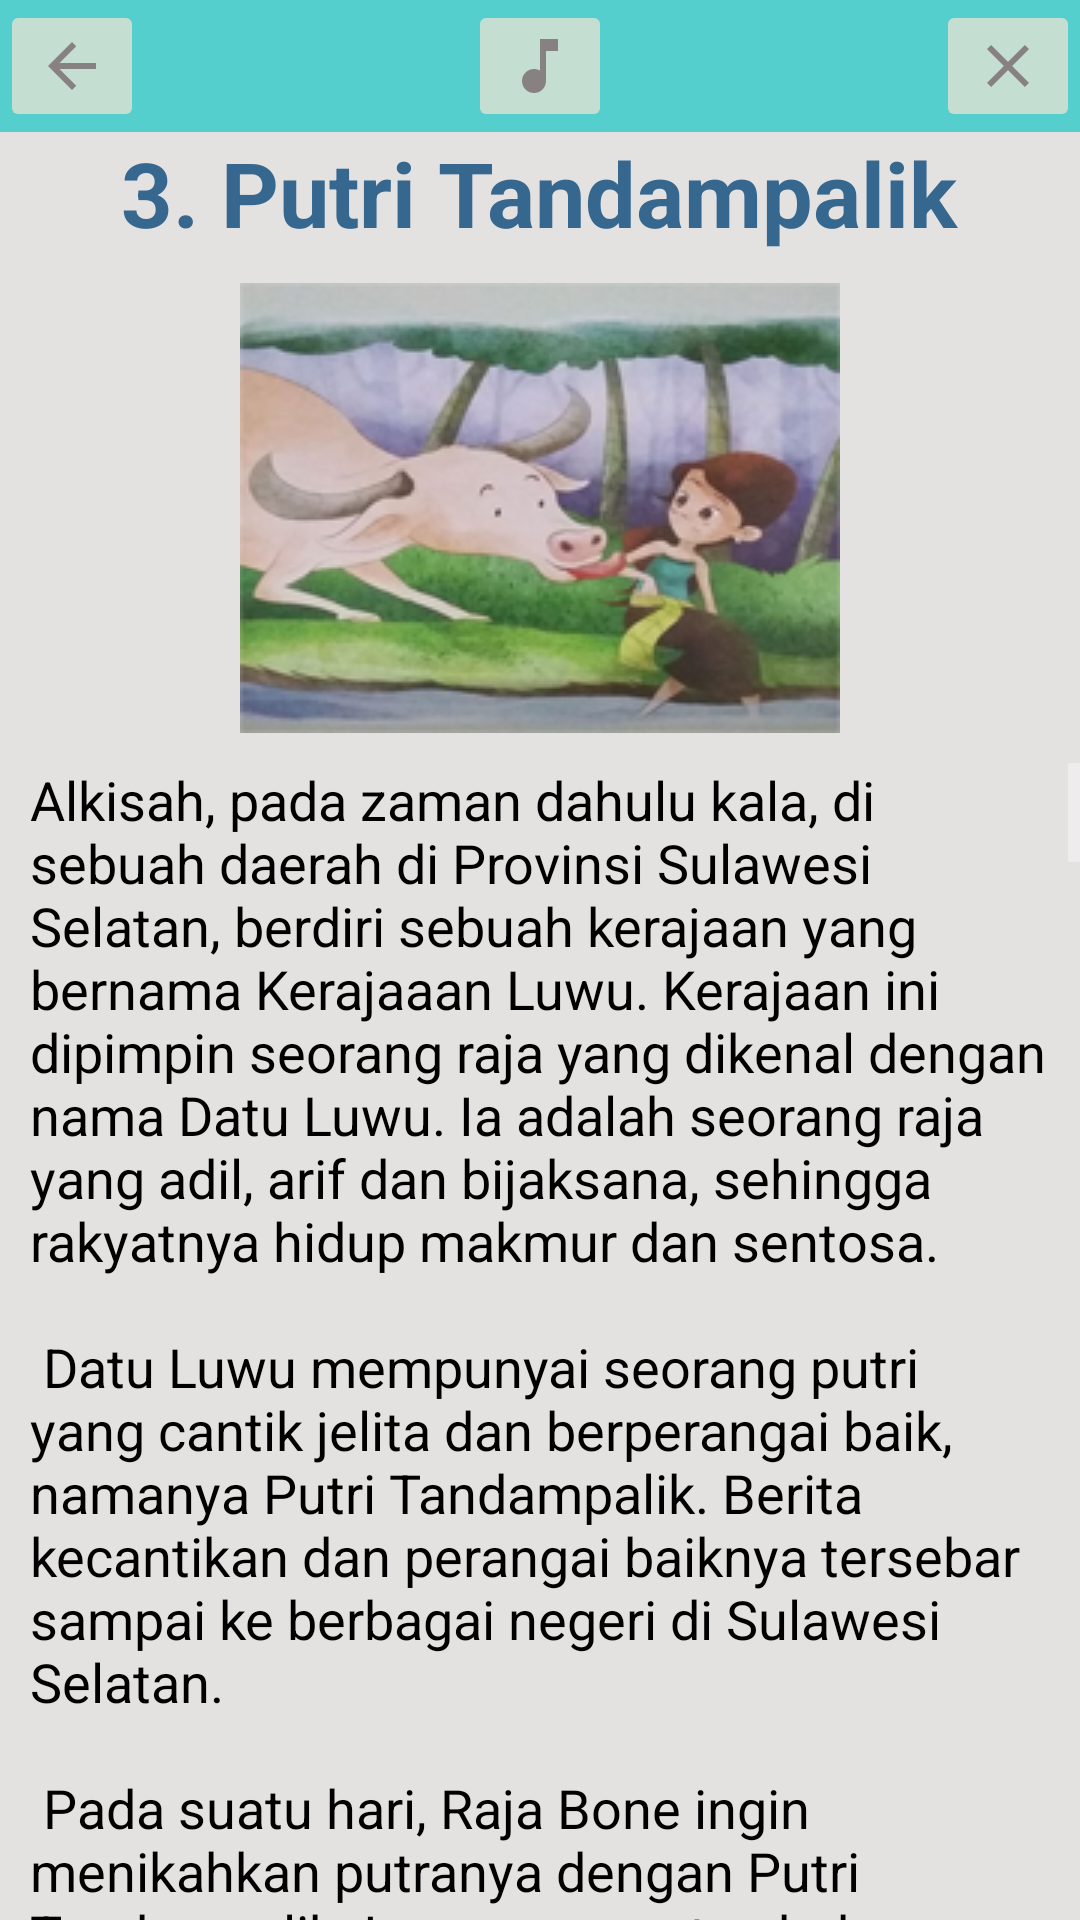

Named icons in this screenshot (1080*1920) and their centers, [x,y]:
arrow back: [72,66]
close: [1008,66]
music note: [540,66]
